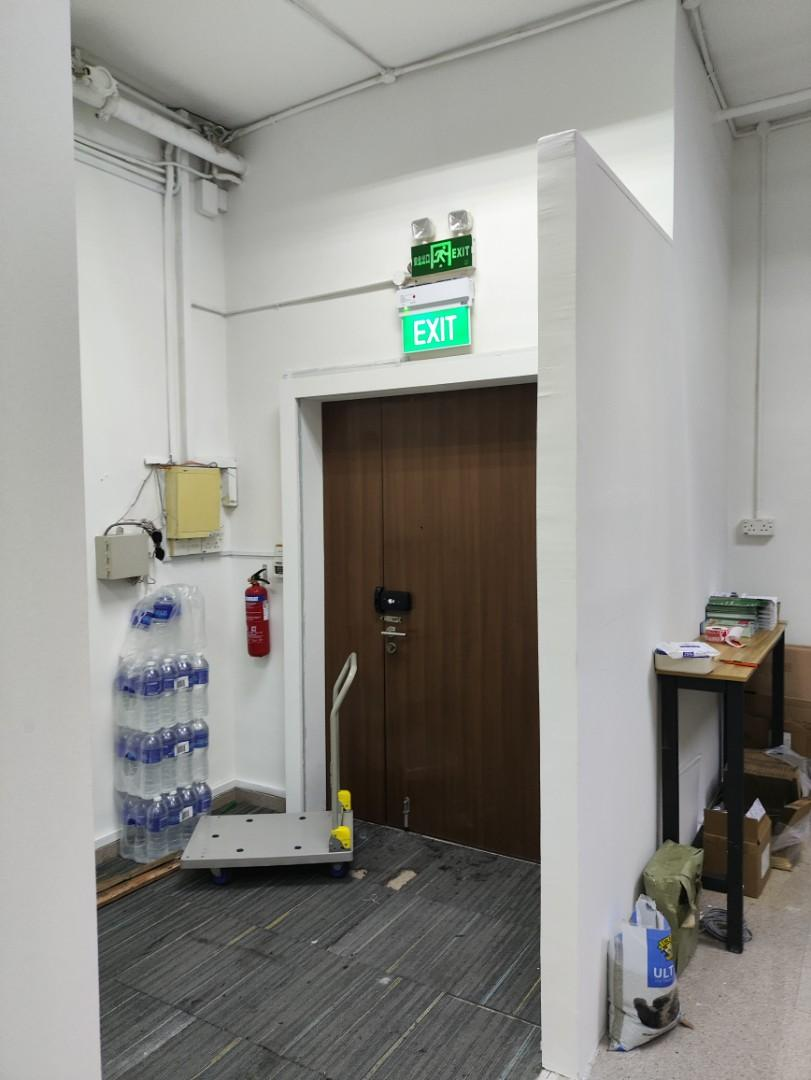exit: (324, 381, 539, 865)
lit_exit_sign: (400, 300, 468, 353)
